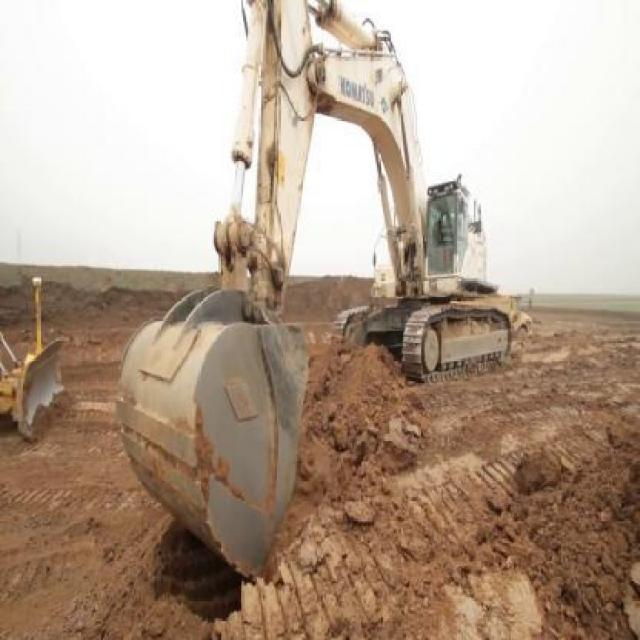Excavator: (114, 0, 512, 583)
